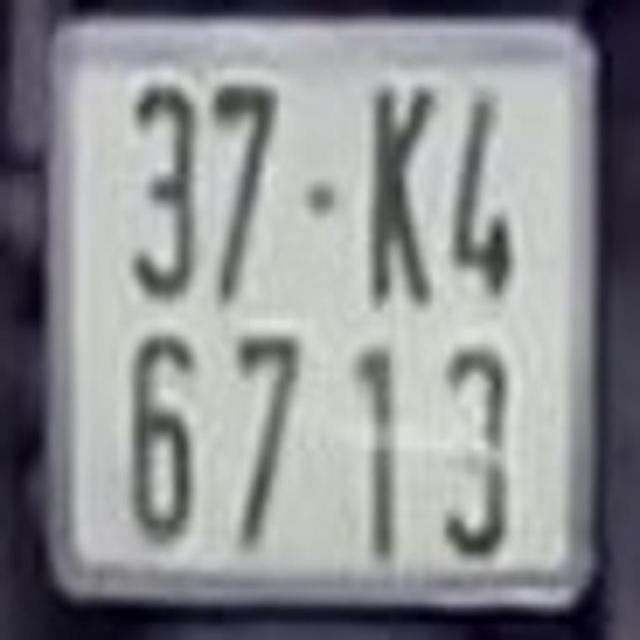1: (349, 342, 405, 561)
3: (439, 340, 513, 556), (132, 83, 196, 298)
4: (449, 92, 516, 303)
6: (128, 330, 198, 542)
7: (231, 328, 302, 552), (210, 80, 278, 303)
K: (364, 80, 433, 311)
